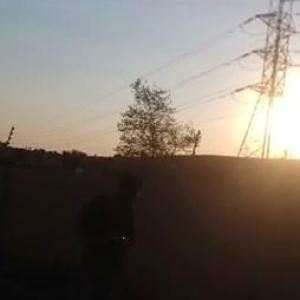follow: (71, 164, 145, 299)
